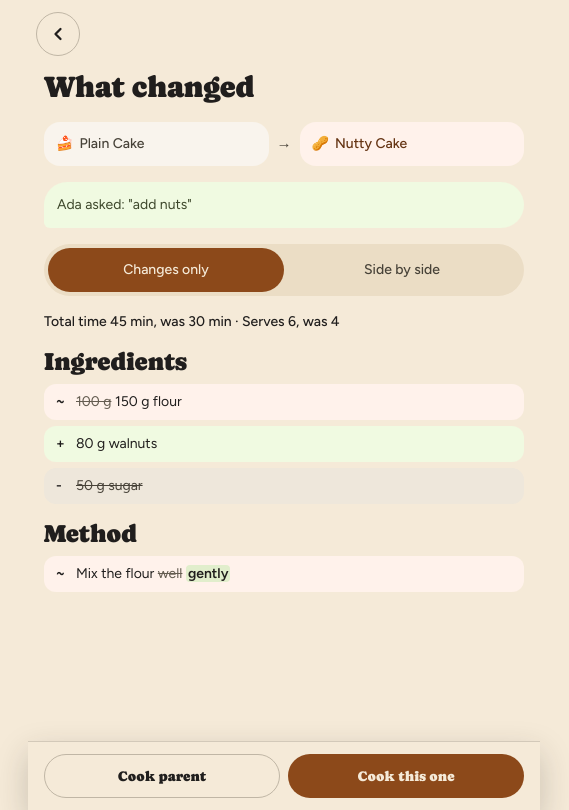
it: RecipeChangesPage › toggling Side by side shows unchanged steps and rows
The width and height of the screenshot is (569, 810).
Expected: the element named "Comparison" is shown, [44, 244, 524, 296]
Click the radio button labelled "Side by side".
click(402, 270)  # box [284, 248, 520, 292]
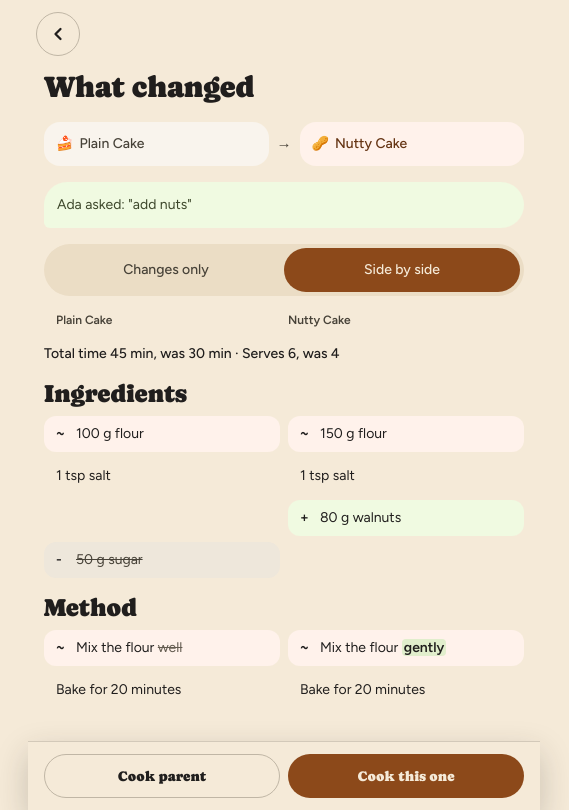
Now the text "Bake for 20 minutes" is shown 2 times, box [56, 680, 181, 698]; [300, 680, 425, 698]
Now the 2nd text "Plain Cake" is shown, box [56, 312, 112, 326]
Now the 2nd text "Nutty Cake" is shown, box [288, 312, 351, 326]
